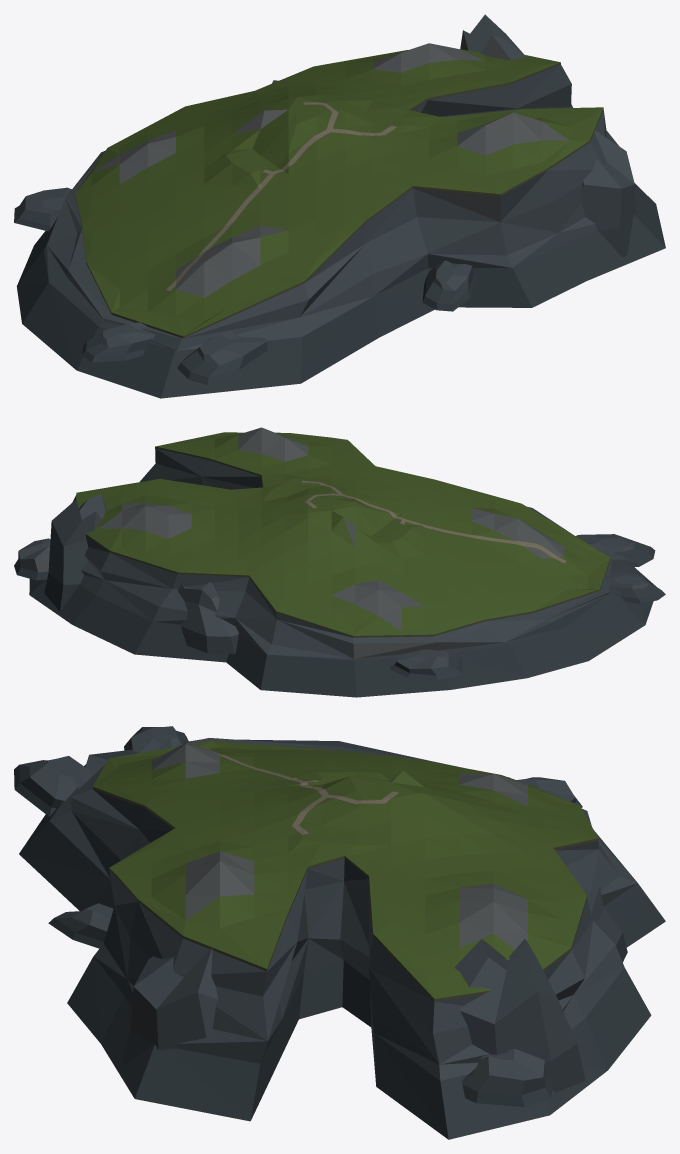
File: island_a.glb
3 views of the same model, one above another, from view 1: azimuth 30°, elevation 25°; view 2: azimuth 150°, elevation 25°; view 3: azimuth 270°, elevation 25° (orthographic). The views are drawn at different scales.
Parts seen in each view (by area): view 1: island_a_Coast short olive grass, island_a_Coast blue grey bedrock, island_a_Coast weathered stone footpath; view 2: island_a_Coast short olive grass, island_a_Coast blue grey bedrock, island_a_Coast weathered stone footpath; view 3: island_a_Coast blue grey bedrock, island_a_Coast short olive grass, island_a_Coast weathered stone footpath.
Part boxes in pixels (bbox=[...]): island_a_Coast short olive grass: bbox=[75, 43, 603, 338]; island_a_Coast blue grey bedrock: bbox=[14, 14, 665, 398]; island_a_Coast weathered stone footpath: bbox=[165, 102, 396, 291]; island_a_Coast short olive grass: bbox=[76, 427, 610, 637]; island_a_Coast blue grey bedrock: bbox=[14, 448, 665, 697]; island_a_Coast weathered stone footpath: bbox=[302, 480, 565, 563]; island_a_Coast blue grey bedrock: bbox=[14, 726, 665, 1139]; island_a_Coast short olive grass: bbox=[92, 740, 598, 1001]; island_a_Coast weathered stone footpath: bbox=[202, 747, 398, 834].
Bounding box in the file's own units: 205 × 42.35 × 148.
